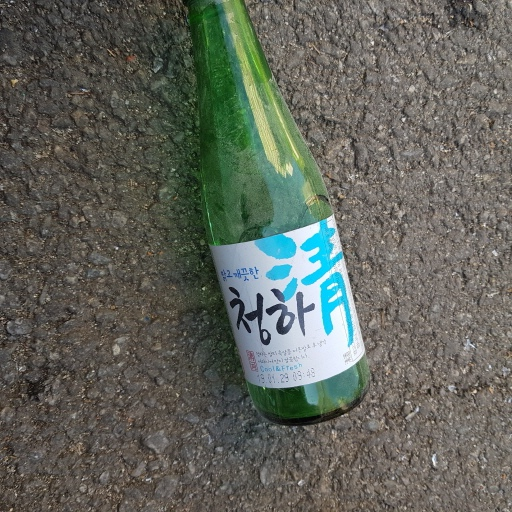Glass_0: (184, 1, 370, 423)
